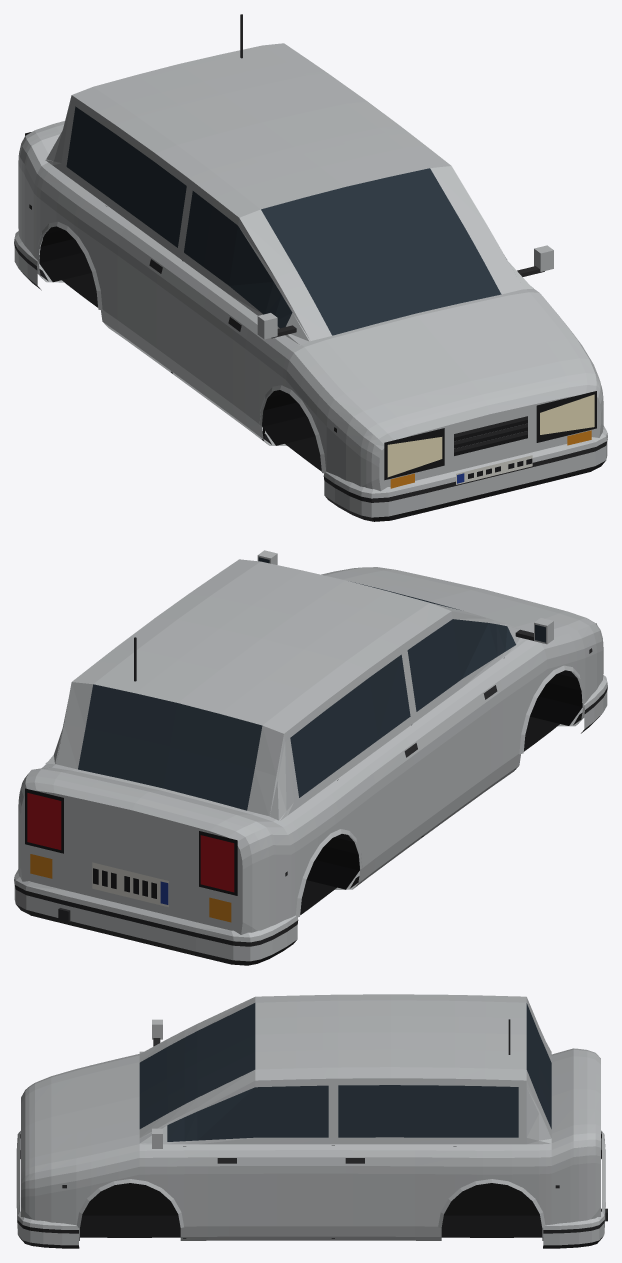
Rendered from renault-megane-ii.glb.
3 renders of one model, top to bottom at view 1: azimuth 30°, elevation 25°; view 2: azimuth 150°, elevation 25°; view 3: azimuth 270°, elevation 25°, orthographic. The views are drawn at different scales.
Parts seen in each view (by area): view 1: LOD0, door_FR, door_RR; view 2: LOD0, door_FR, door_RR; view 3: LOD0, door_FL, door_RL.
Part boxes in pixels (x1,y1,x2,y2): LOD0: (14,14,607,521); door_FR: (169,182,282,437); door_RR: (92,125,187,368); LOD0: (14,550,607,965); door_FR: (406,611,518,833); door_RR: (328,646,424,882); LOD0: (16,994,607,1248); door_FL: (184,1078,331,1236); door_RL: (335,1078,454,1236).
Size of what is drawn, in the model's own units: 1.97 by 1.61 by 4.31.
